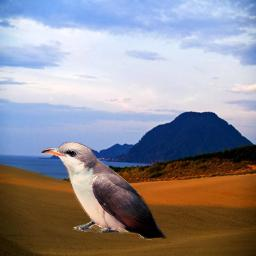Cuckoo: (41, 142, 167, 240)
